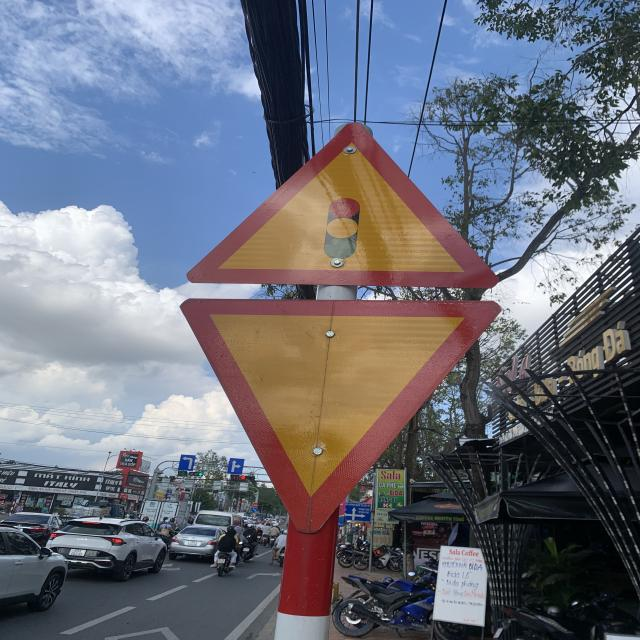Duong_Co_Go_Giam_Toc: (184, 118, 496, 288)
Gioi_Han_Toc_Do_25: (180, 298, 500, 540)
